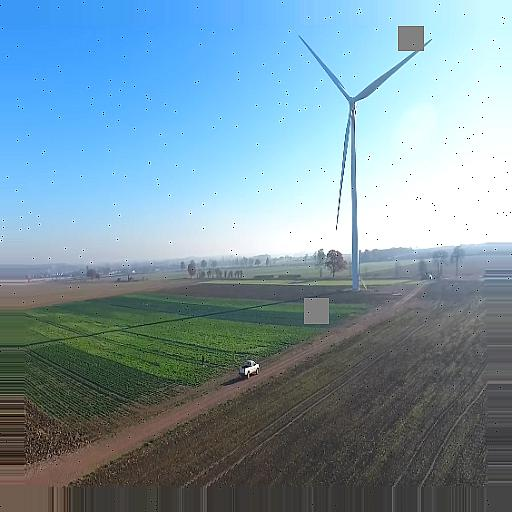wind turbine: (296, 35, 435, 291)
